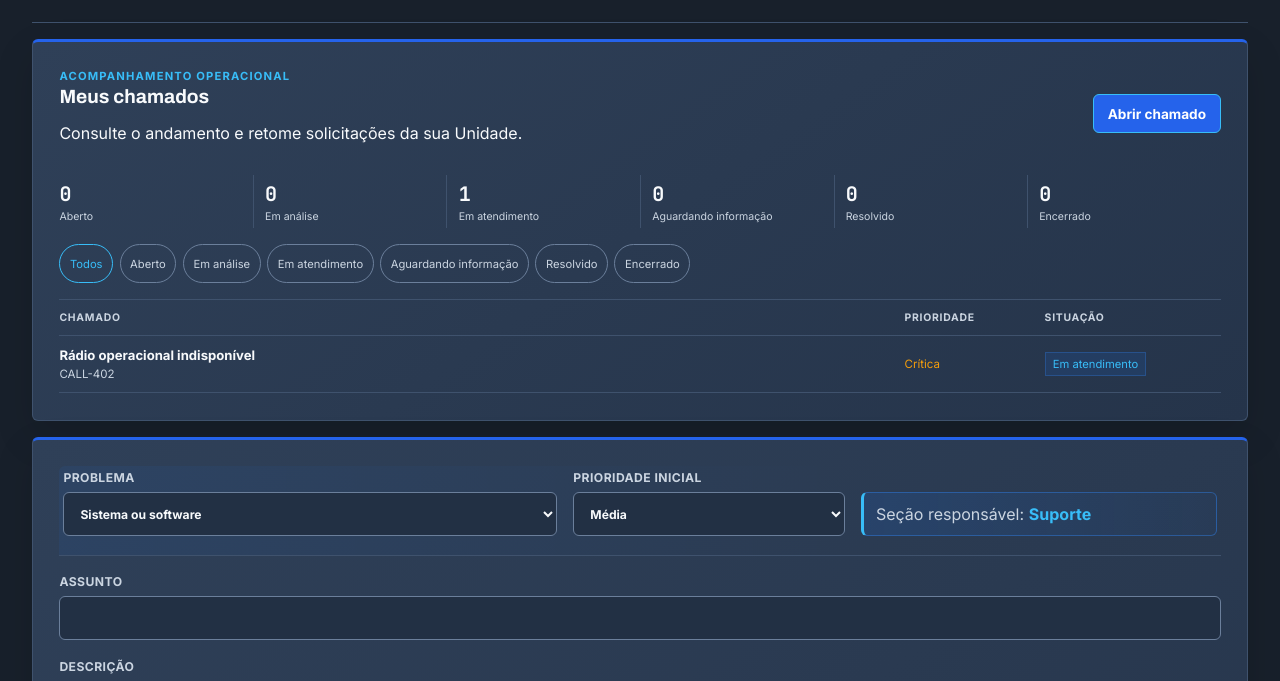
Test: keeps the review visible and displays a recoverable error when submission fails
The image size is (1280, 681).
Select "Sistema ou software" in the dropdown labelled "Problema". click: {"x": 310, "y": 514}
box: 63,492 -> 557,536
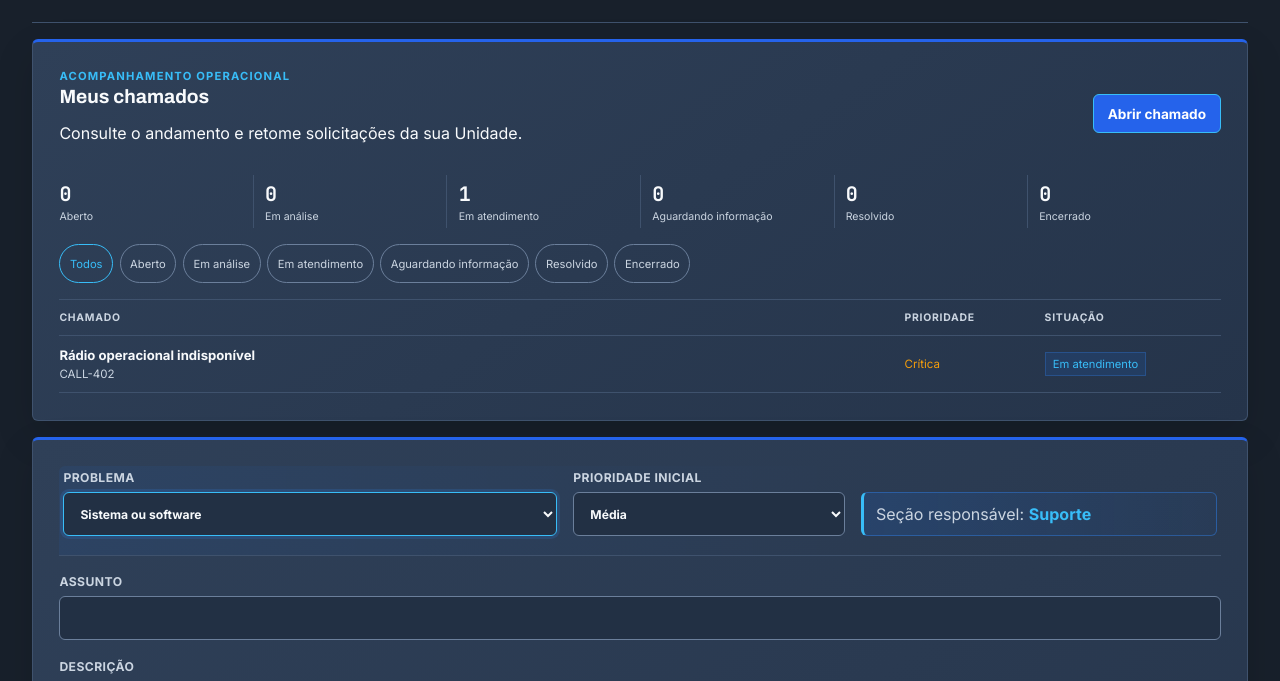
Type "Sistema não inicia" into the field labelled "Assunto". click: {"x": 640, "y": 618}
box: 59,596 -> 1221,640
(page scrolled)
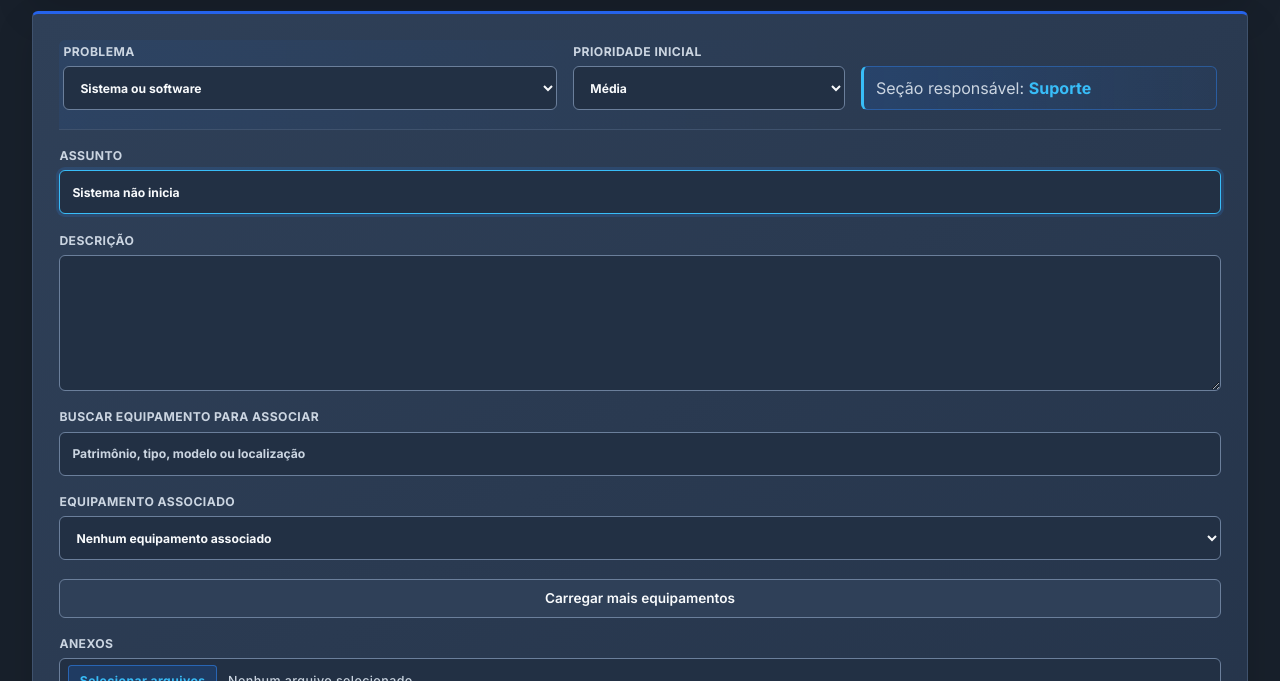
Type "O sistema exibe uma mensagem de erro ao iniciar." into the text box labelled "Descrição". click: {"x": 640, "y": 323}
box: 59,255 -> 1221,391
(page scrolled)
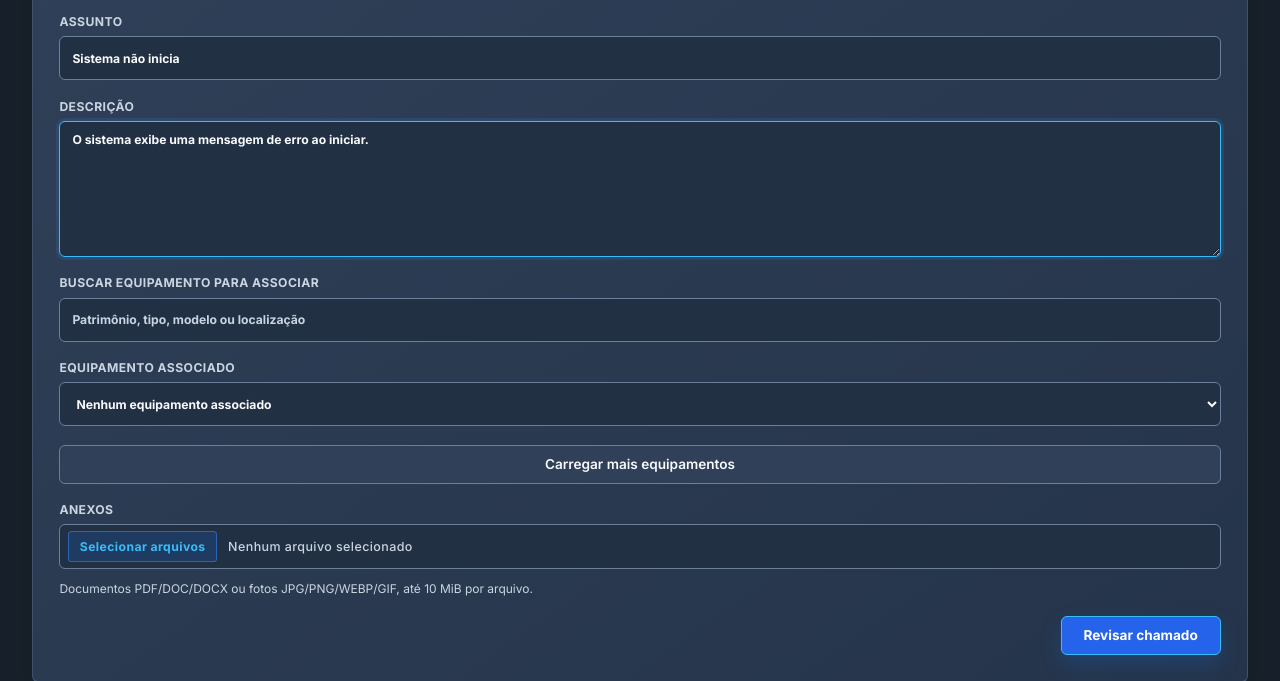
Click the button "Revisar chamado". click: {"x": 1141, "y": 636}
box: 1061,616 -> 1221,655
(page scrolled)
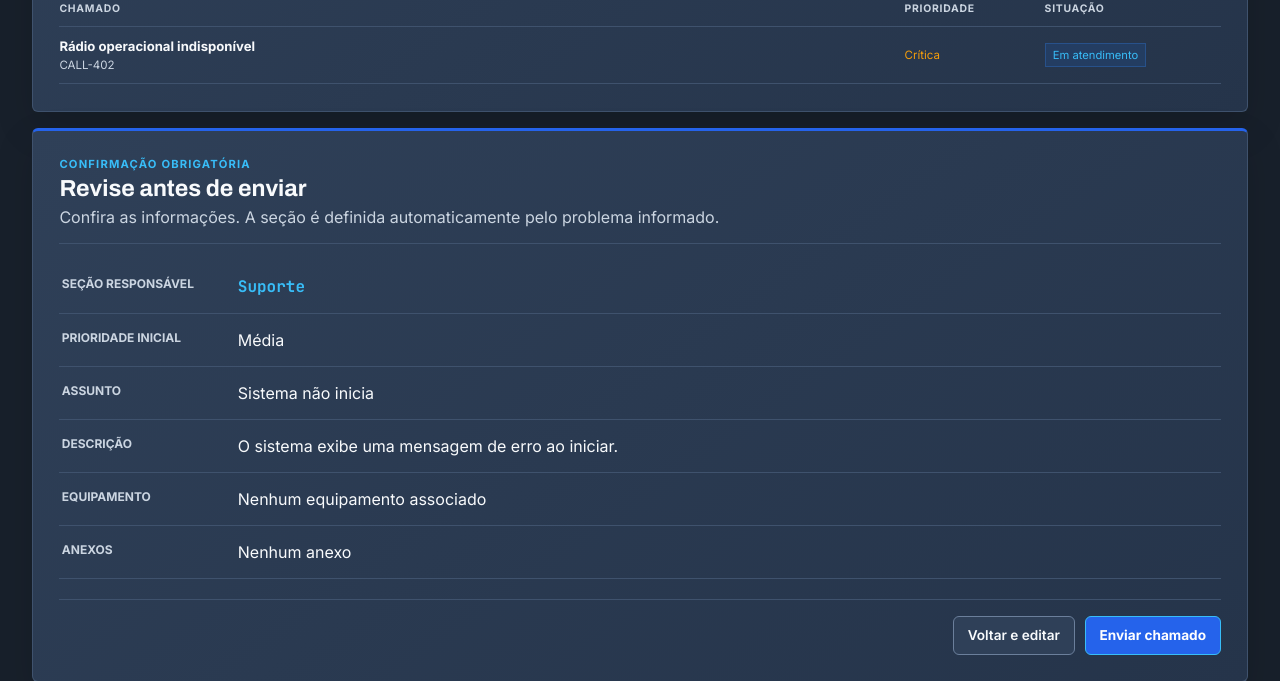
Click the button "Enviar chamado". click: {"x": 1153, "y": 635}
box: 1085,616 -> 1221,655
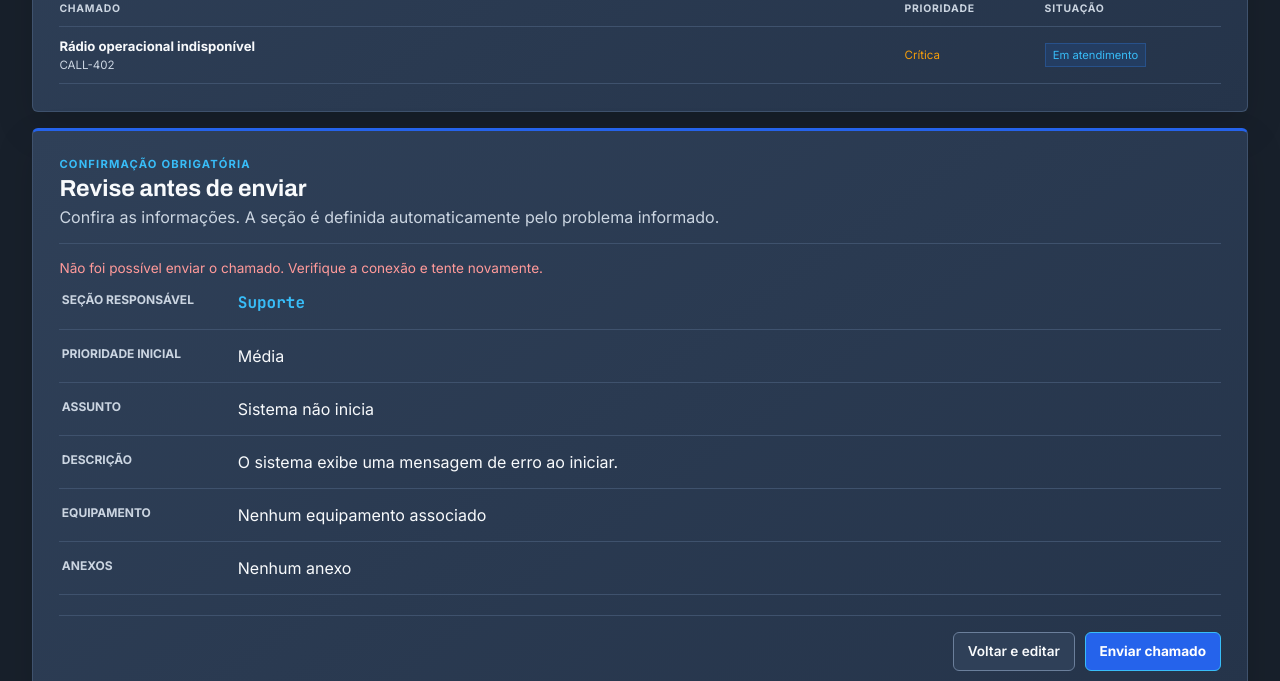
Expected: the heading "Revise antes de enviar" is shown, 59,176 -> 307,201
Expected: the message shows "Não foi possível enviar o chamado.", 59,260 -> 543,276
